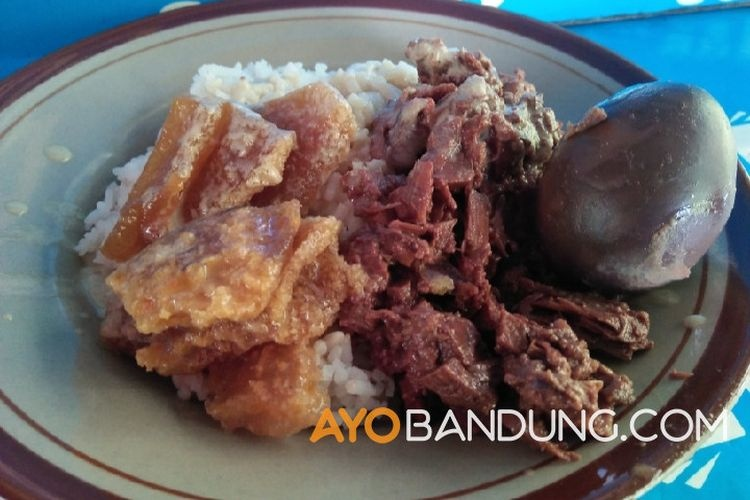gudeg: (70, 58, 711, 467)
